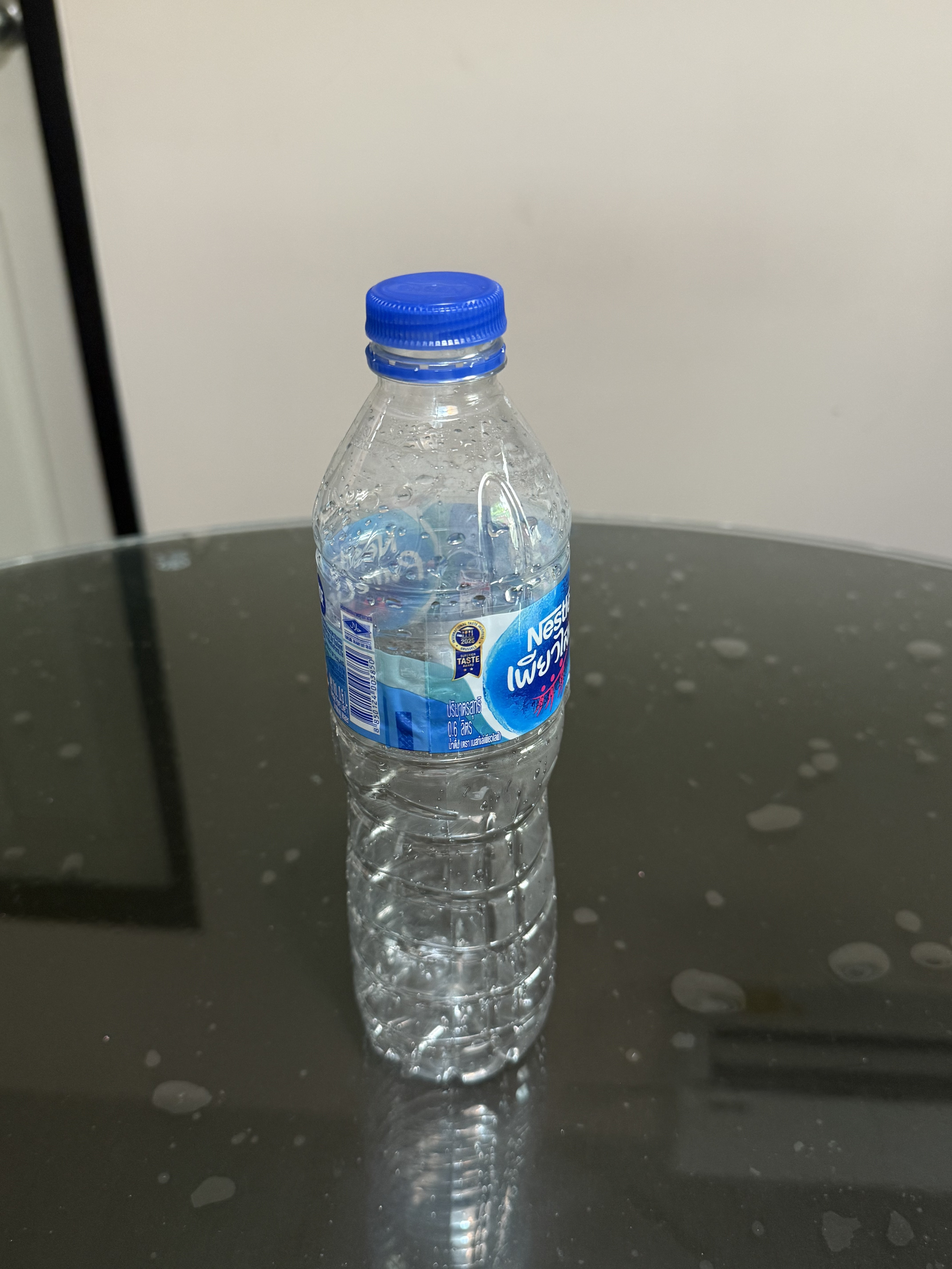half_cap: (359, 266, 511, 386)
